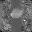people: (11, 8, 22, 19)
